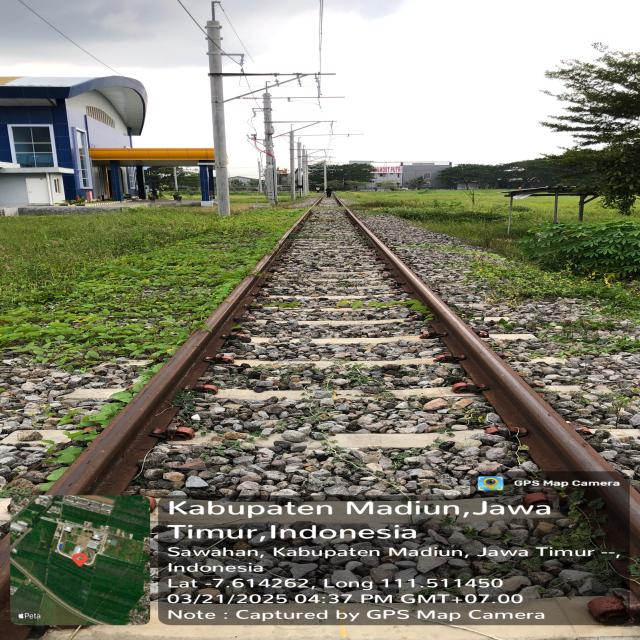rail-detection: (346, 210, 640, 554), (47, 211, 310, 495)
